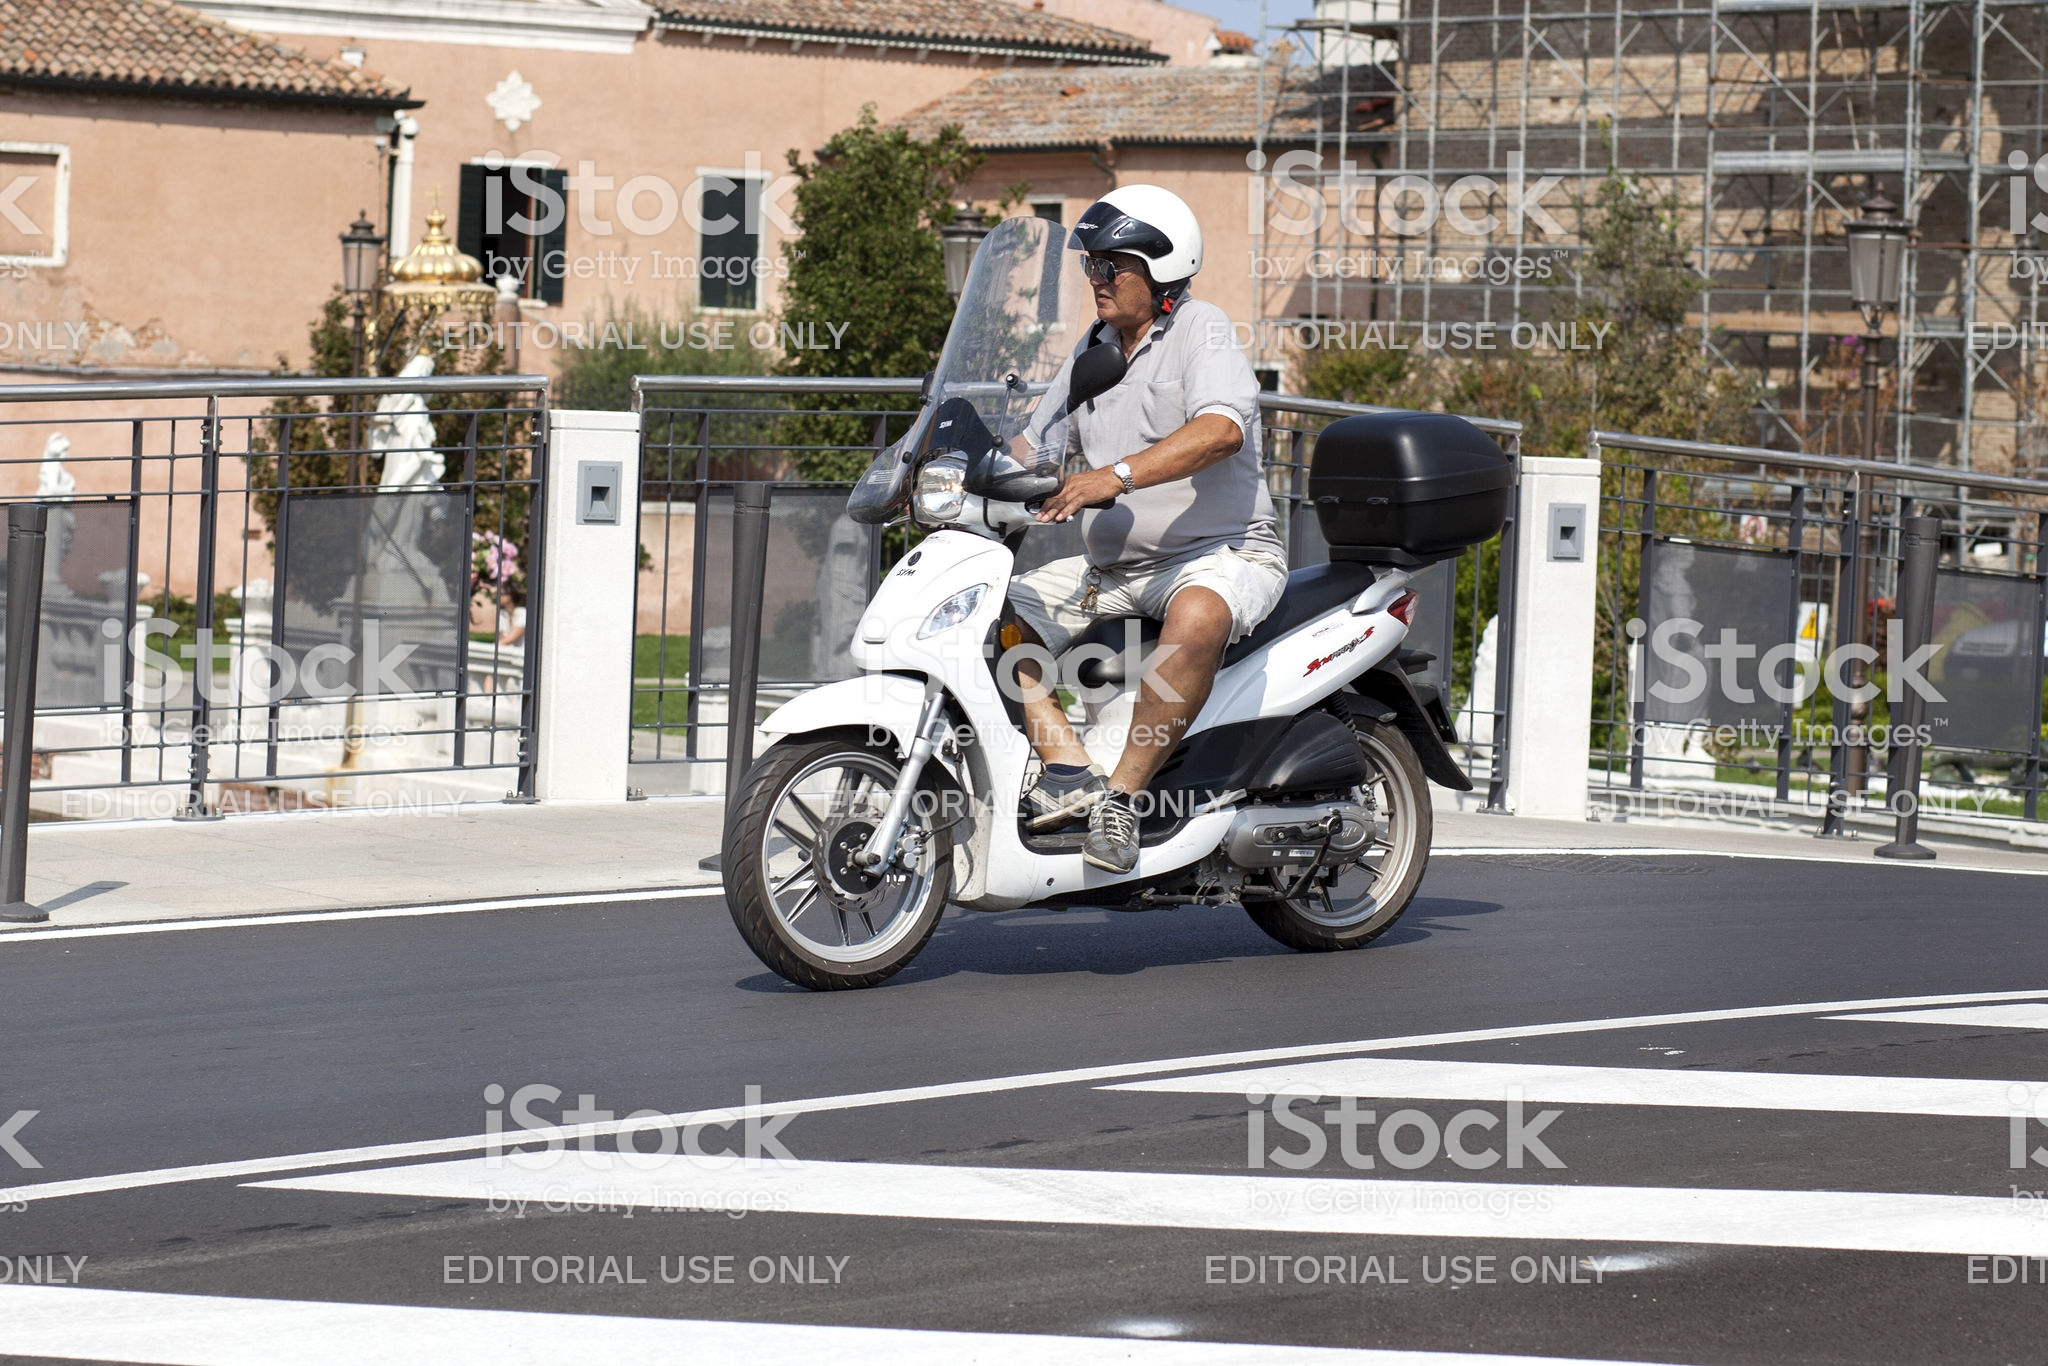helmet: (1073, 175, 1213, 294)
